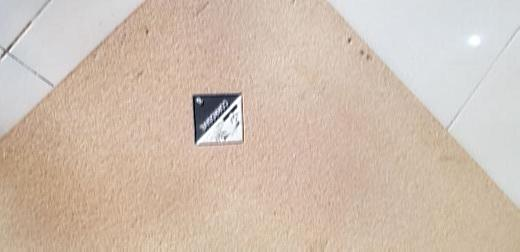corrosive: (192, 95, 246, 145)
